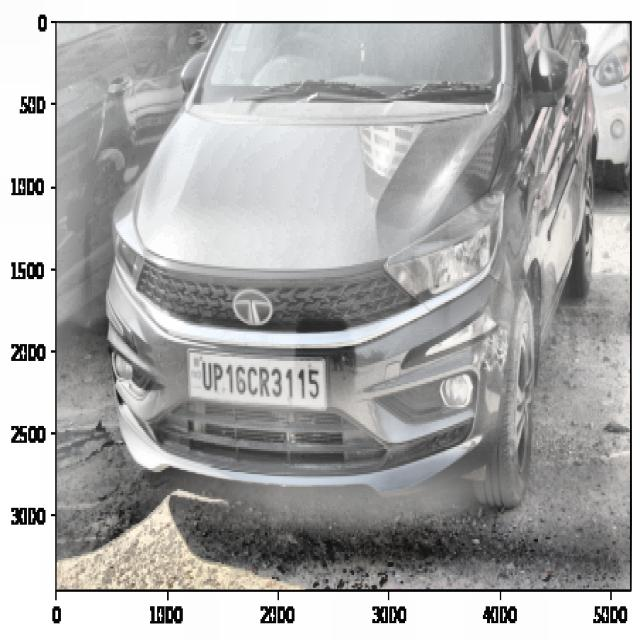license_plate: (198, 354, 324, 412)
